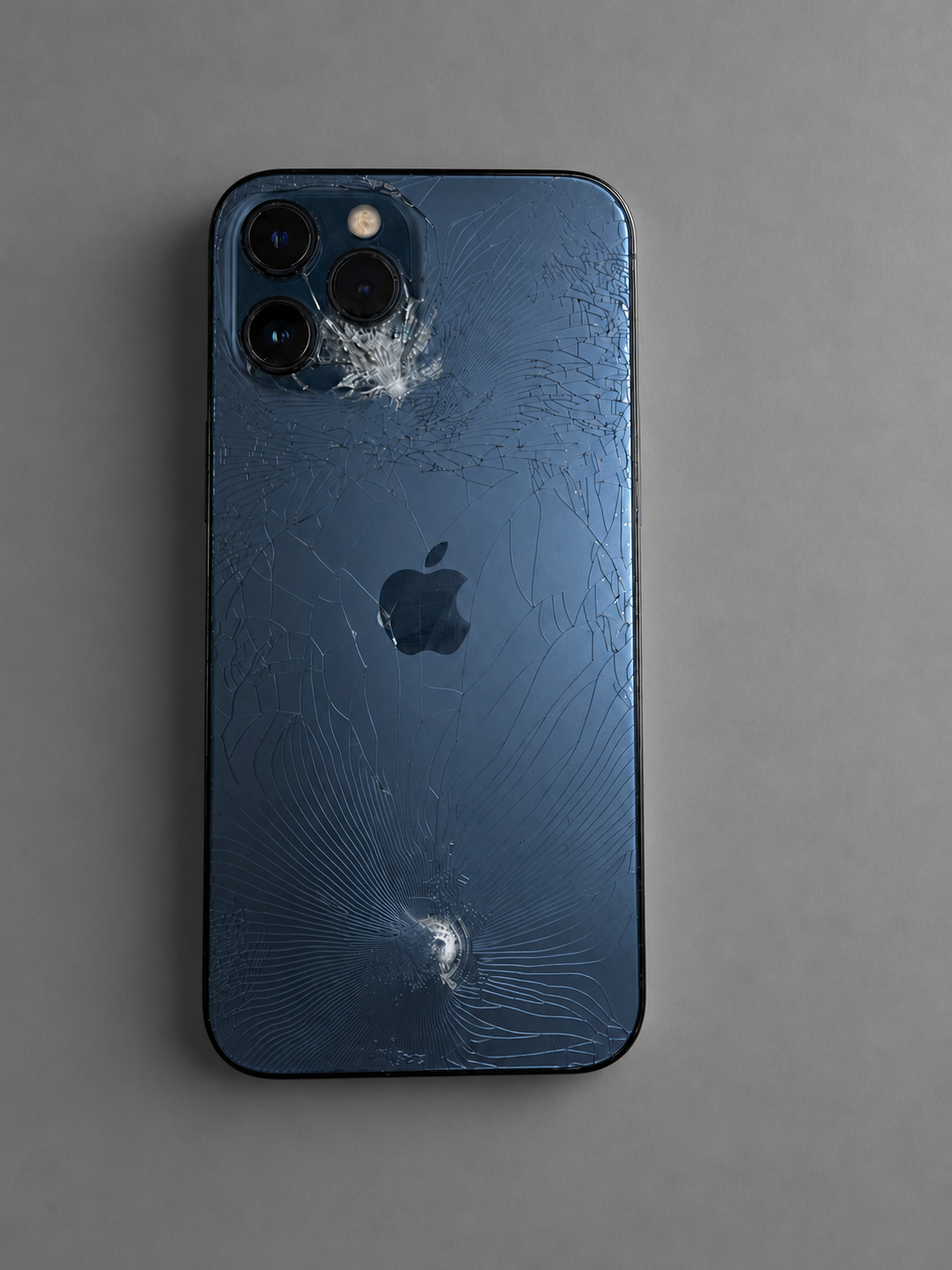iphone_12_pro_max_Crack: (148, 108, 725, 1158)
